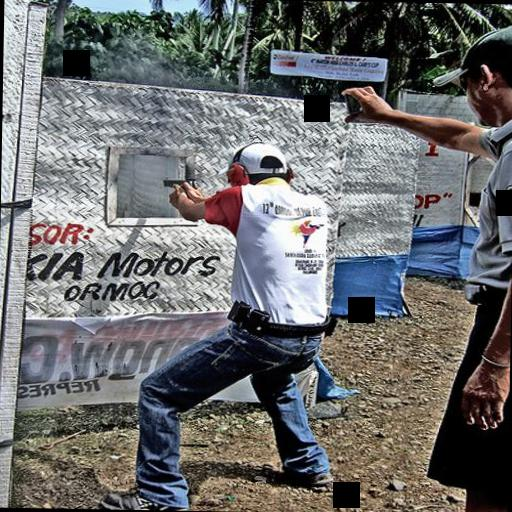Handgun: (161, 175, 197, 196)
